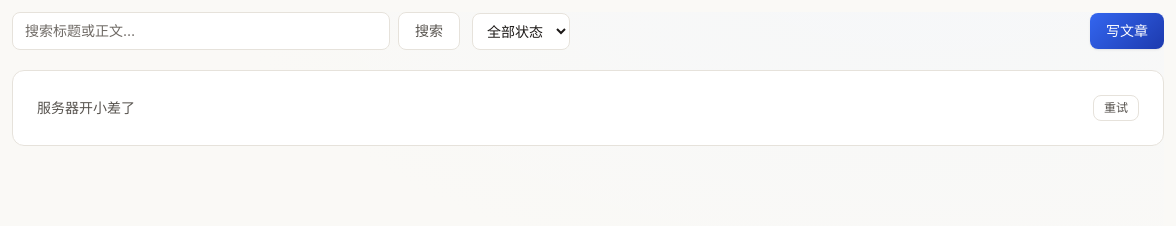
Test: ArticleListView · 加载 / 失败 / 空态 › 加载失败后改状态筛选能重新拉取并恢复（当前没有独立的「重试」按钮）
Step 1. Select "已发布" in the dropdown named "按状态筛选" → (521, 31), box [472,12,570,50]
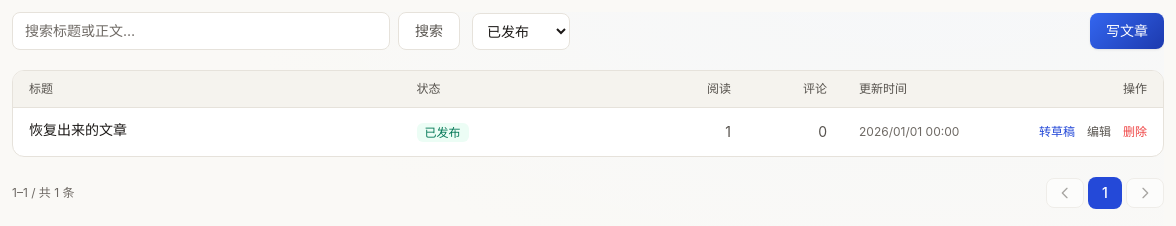
Result: the text "服务器开小差了" is gone
